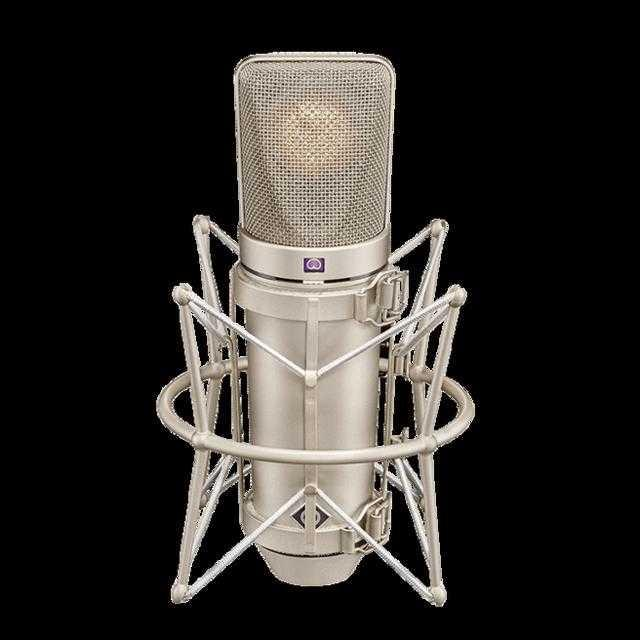microphone: (236, 59, 399, 583)
